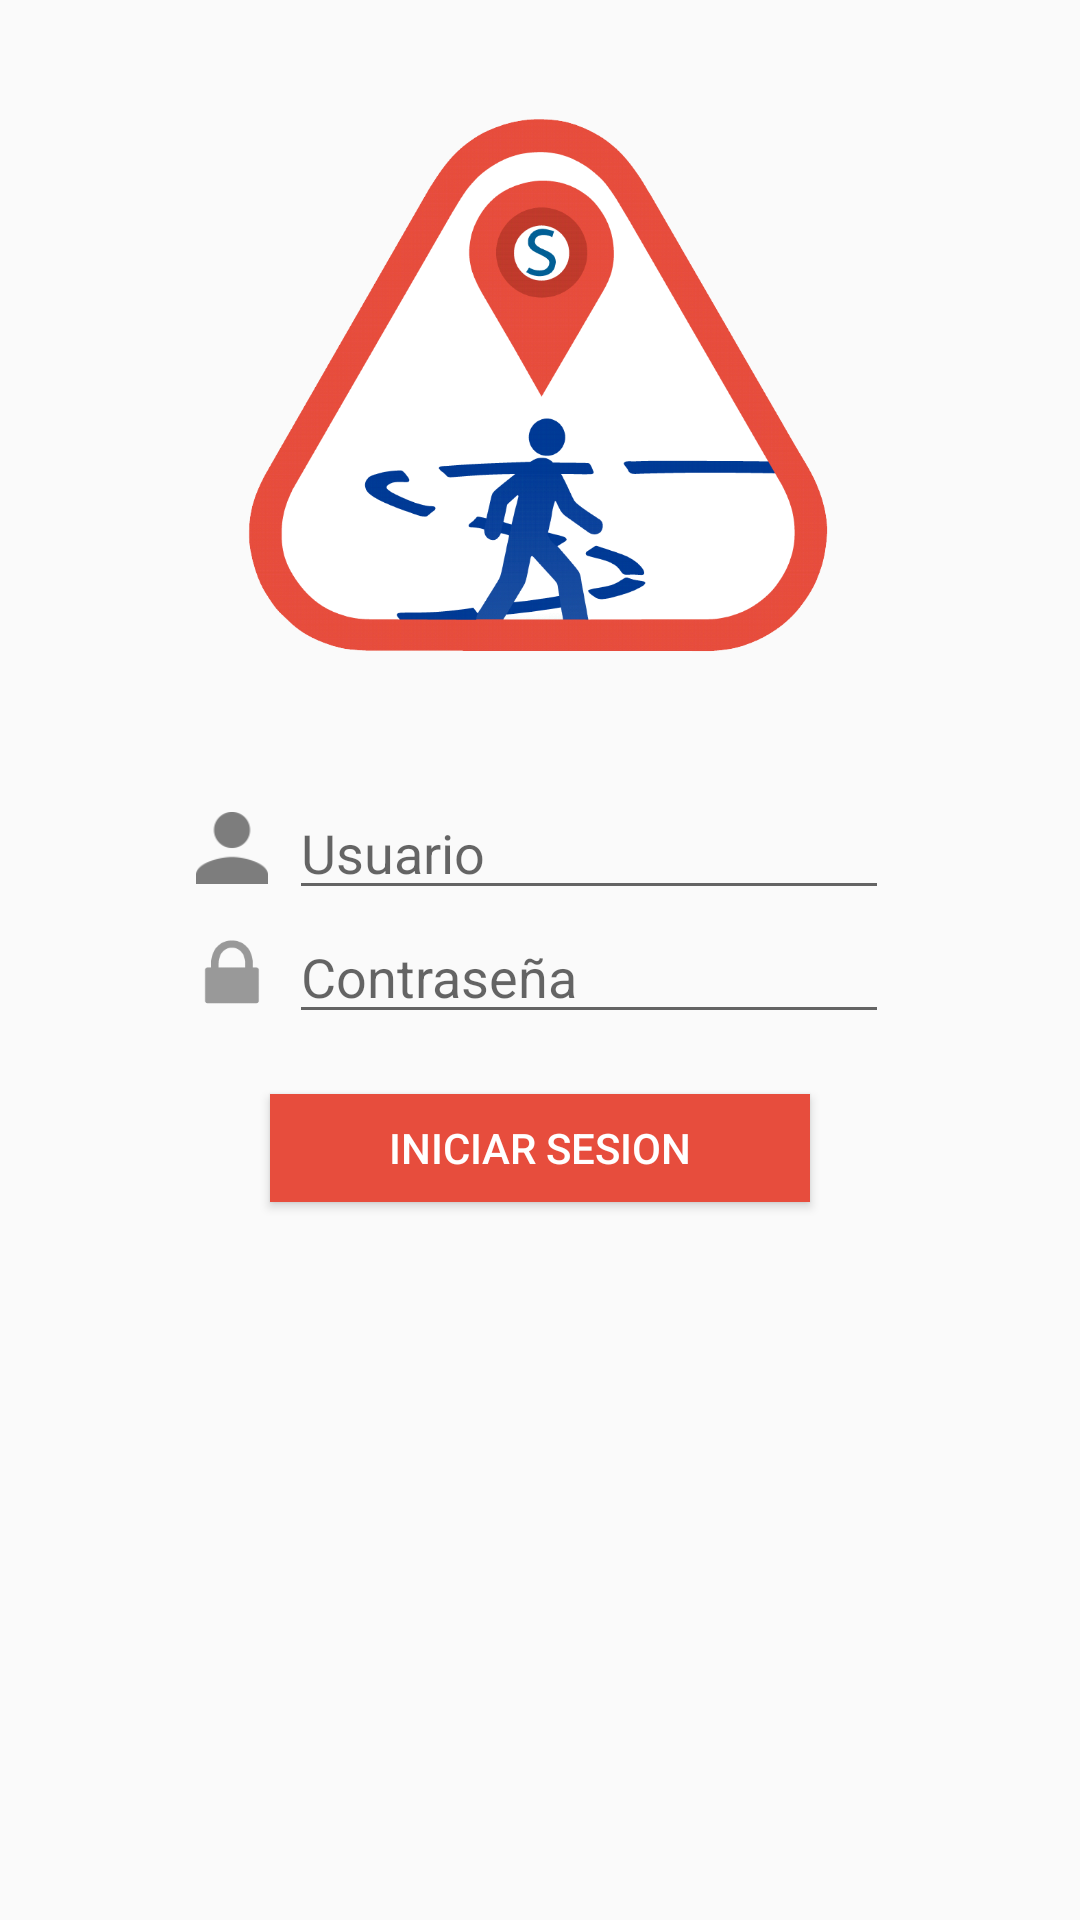

Screen size 1080*1920. Icon name, then its center in pixels as (x=x, y=y):
iconocontrasena: (x=232, y=972)
iconopersona: (x=232, y=848)
